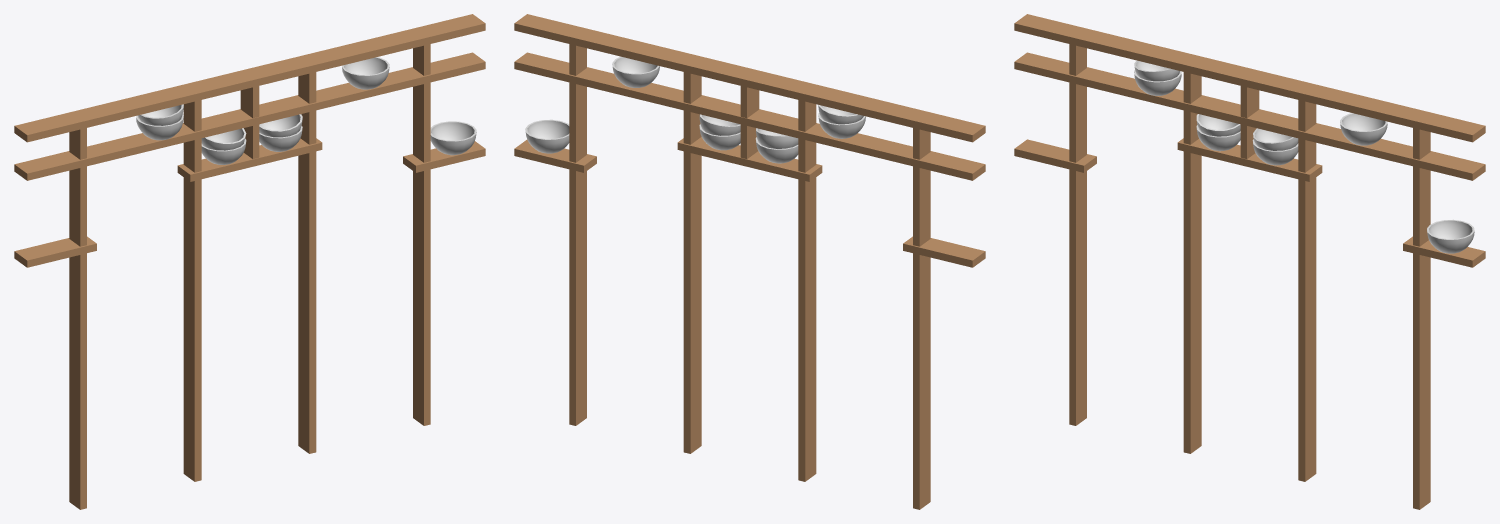
File: SettingBackground_2.fbx
3 views of the same model, side by side, from view 1: azimuth 30°, elevation 25°; view 2: azimuth 150°, elevation 25°; view 3: azimuth 330°, elevation 25° (orthographic).
Parts seen in each view (by area): view 1: pSphere12; view 2: pSphere12; view 3: pSphere12.
Boxes of the visible parts, left/top/right/bottom form: pSphere12: left=14, top=14, right=485, bottom=509; pSphere12: left=514, top=14, right=985, bottom=509; pSphere12: left=1014, top=14, right=1485, bottom=509.
Size of the model in its own units: 24 by 19.44 by 2.19.
